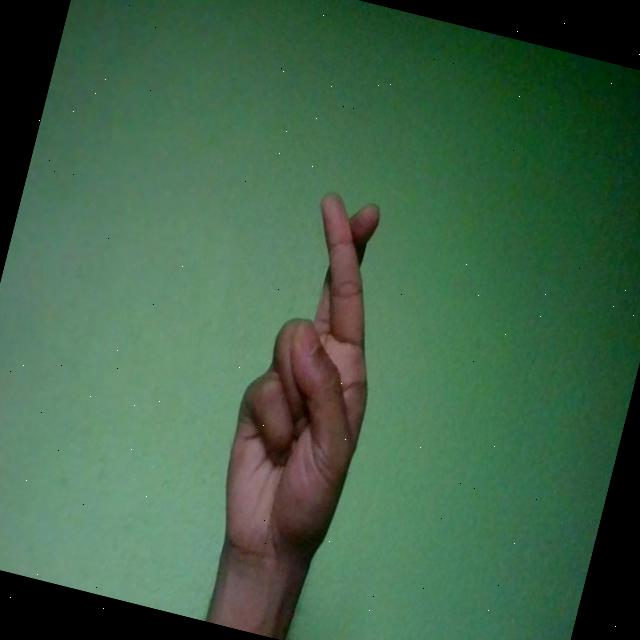Ok: (202, 181, 416, 586)
